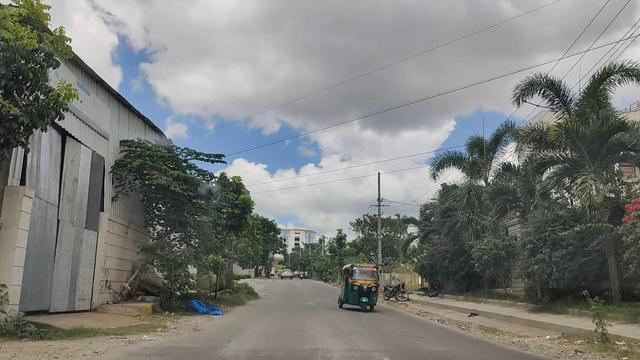LMV: (336, 258, 386, 319)
